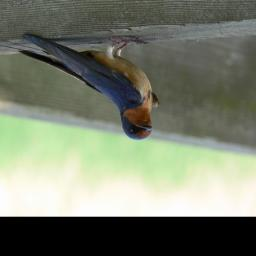Swallow: (0, 31, 161, 142)
